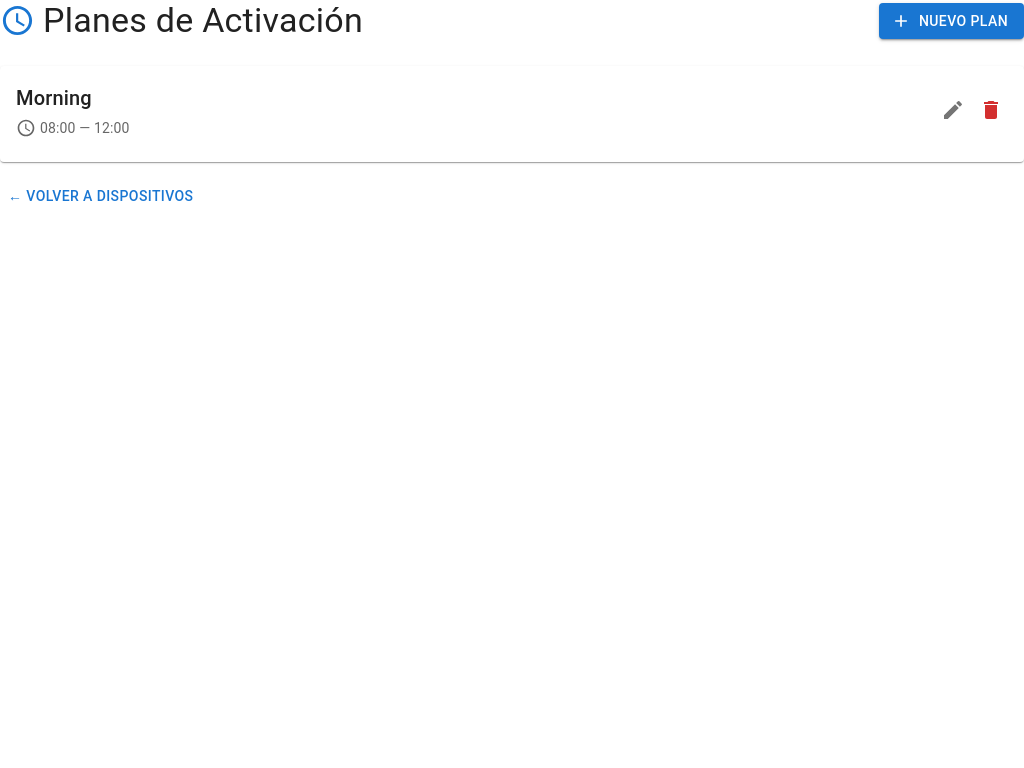
ActivationPlansPage › edits existing plan
Expected: the heading "Morning" is shown, [16,86,92,110]
Step 1. Click the button with test id "EditIcon" → click(953, 110), box [936,93,970,127]
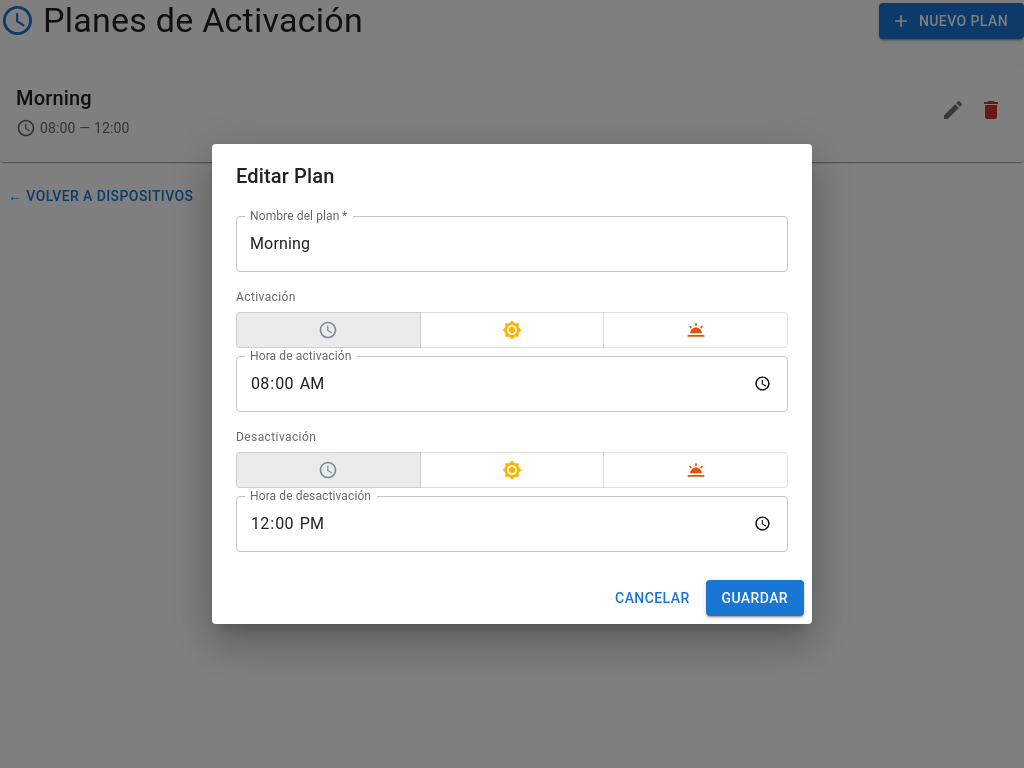
Result: the heading "Editar Plan" is shown at [236,164,335,188]
